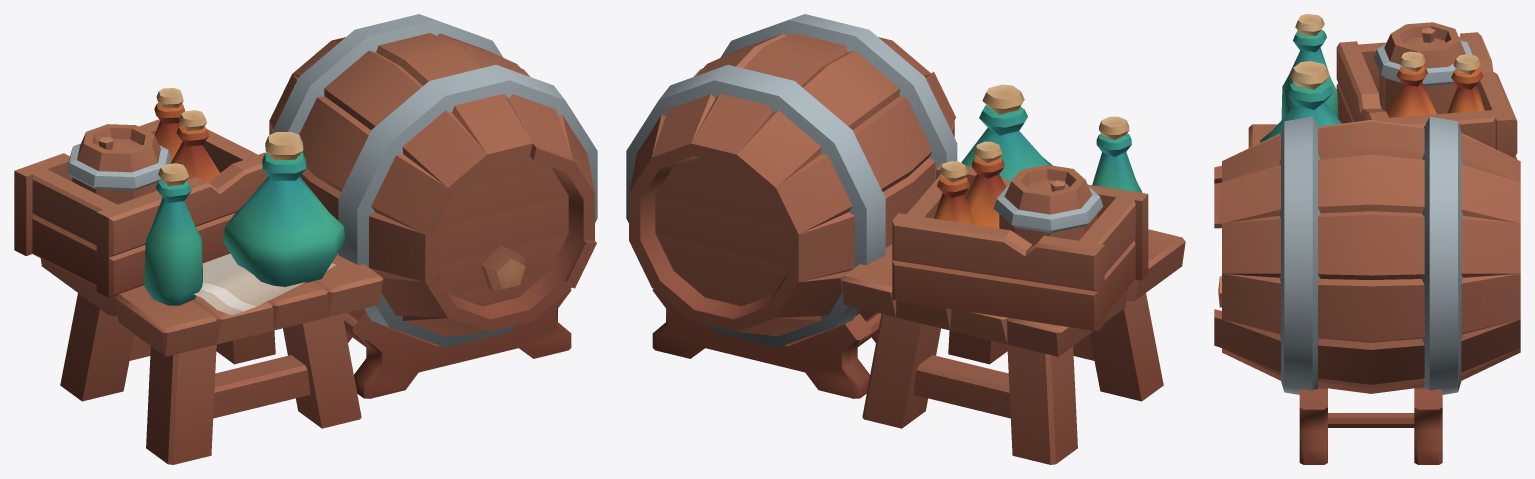
File: keg_decorated.gltf
3 views of the same model, side by side, from view 1: azimuth 30°, elevation 25°; view 2: azimuth 150°, elevation 25°; view 3: azimuth 270°, elevation 25° (orthographic). The views are drawn at different scales.
Visible parts, largest first — view 1: keg_decorated; view 2: keg_decorated; view 3: keg_decorated.
Part boxes in pixels (x1=…): keg_decorated: x1=14, y1=14, x2=597, y2=464; keg_decorated: x1=626, y1=14, x2=1185, y2=464; keg_decorated: x1=1214, y1=14, x2=1520, y2=464.
Size of the model in its own units: 3.52 by 2.05 by 2.
1 material, 1 textured.
